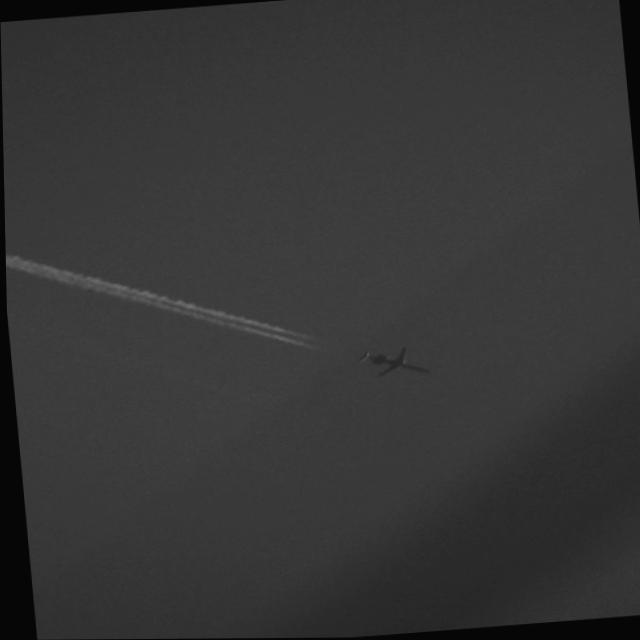aeroplane: (345, 339, 442, 386)
